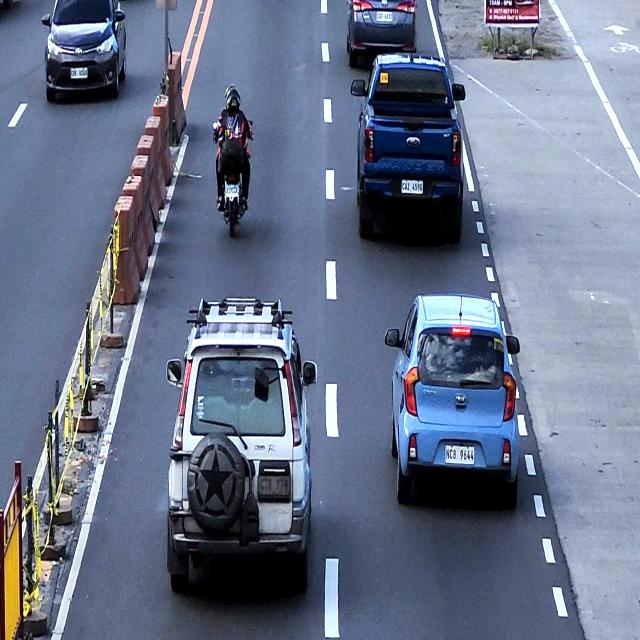Car: (165, 296, 317, 591), (384, 292, 521, 508), (350, 52, 466, 240), (41, 0, 127, 103), (346, 0, 416, 65)
License-Plate: (256, 475, 292, 498), (444, 445, 476, 467), (401, 180, 424, 195), (70, 67, 88, 79), (224, 184, 239, 198), (376, 10, 393, 22)
Motorcycle: (212, 118, 254, 238)
